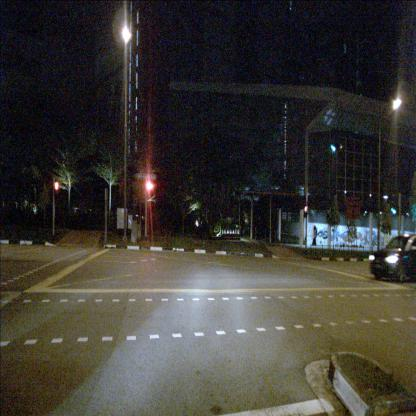vehicle-car: (370, 231, 416, 283)
